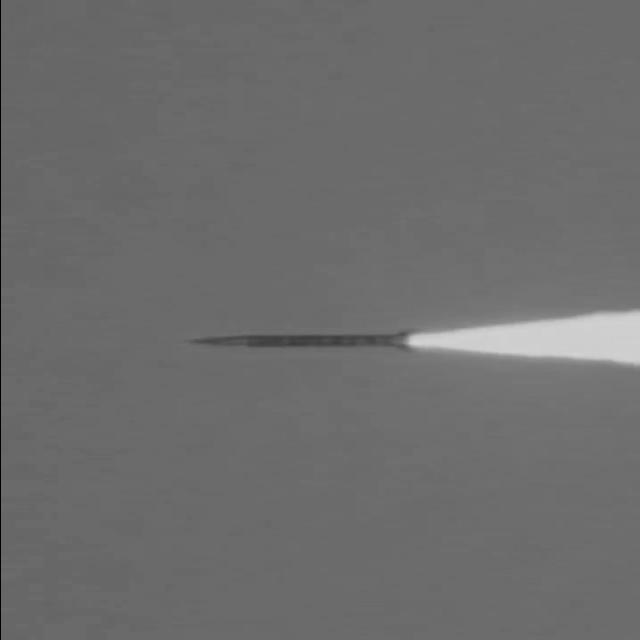missile: (167, 326, 427, 359)
